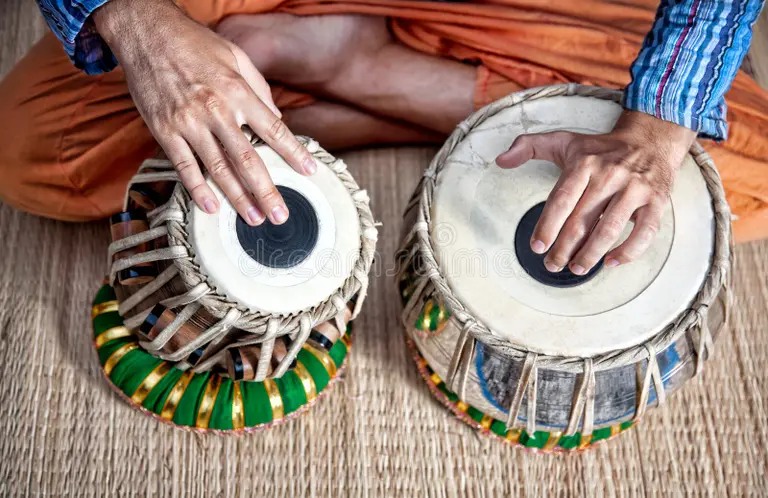tabla: (402, 83, 729, 427), (103, 129, 381, 378)
